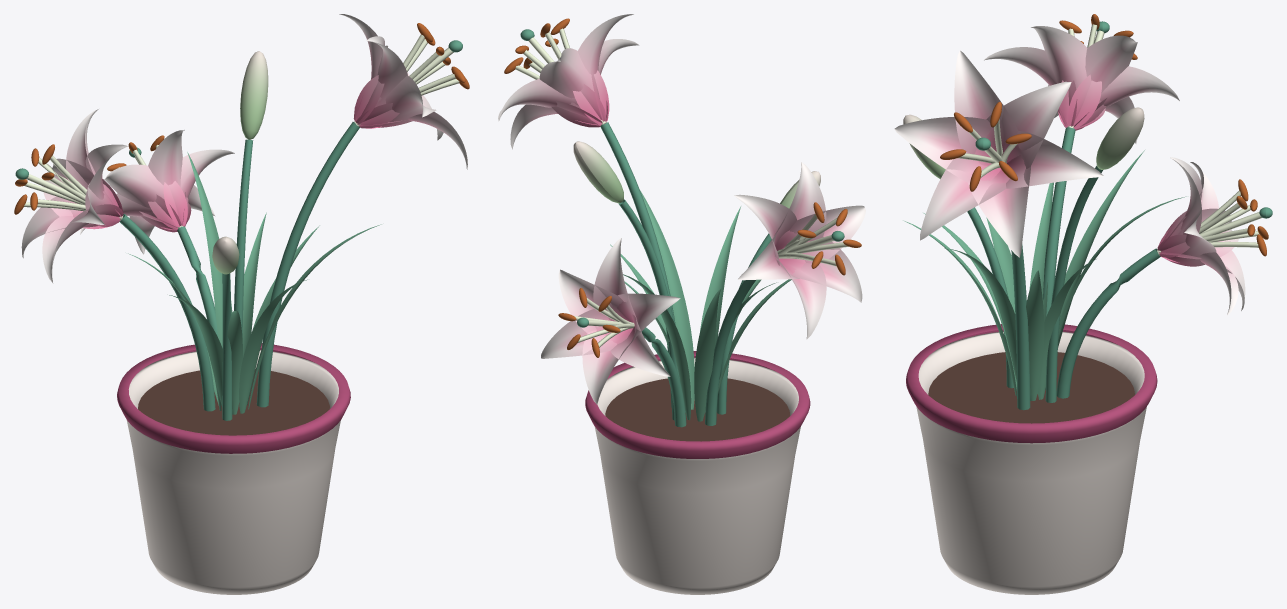
The model's file is lilies.glb.
The picture shows the model from 3 angles, left to right: view 1: azimuth 30°, elevation 25°; view 2: azimuth 150°, elevation 25°; view 3: azimuth 270°, elevation 25°; orthographic projection. The views are drawn at different scales.
Visible parts, largest first — view 1: pot, petal, stem, leaf, soil, rim, filament, bud, anther; view 2: pot, petal, leaf, soil, stem, rim, filament, anther, bud; view 3: pot, petal, stem, leaf, soil, rim, filament, anther, bud.
Part boxes in pixels (left/top/right/bottom): pot: left=126, top=350, right=340, bottom=594; petal: left=21, top=14, right=467, bottom=283; stem: left=15, top=40, right=462, bottom=420; leaf: left=128, top=152, right=381, bottom=414; soil: left=138, top=369, right=329, bottom=435; rim: left=117, top=343, right=350, bottom=453; filament: left=24, top=34, right=459, bottom=228; bud: left=212, top=51, right=268, bottom=274; anther: left=14, top=23, right=469, bottom=214; pot: left=595, top=357, right=800, bottom=594; petal: left=498, top=14, right=865, bottom=404; leaf: left=610, top=189, right=791, bottom=421; soil: left=605, top=378, right=789, bottom=441; stem: left=520, top=29, right=844, bottom=427; rim: left=585, top=351, right=810, bottom=458; filament: left=515, top=28, right=848, bottom=347; anther: left=504, top=18, right=861, bottom=357; bud: left=573, top=141, right=820, bottom=208; pot: left=916, top=331, right=1146, bottom=594; petal: left=894, top=26, right=1245, bottom=315; stem: left=967, top=21, right=1272, bottom=410; leaf: left=903, top=150, right=1186, bottom=400; soil: left=928, top=352, right=1134, bottom=423; rim: left=906, top=324, right=1157, bottom=443; filament: left=957, top=24, right=1262, bottom=255; anther: left=940, top=14, right=1268, bottom=256; bud: left=903, top=107, right=1144, bottom=179.
Size of the model in its own units: 0.2512 by 0.3169 by 0.194.
